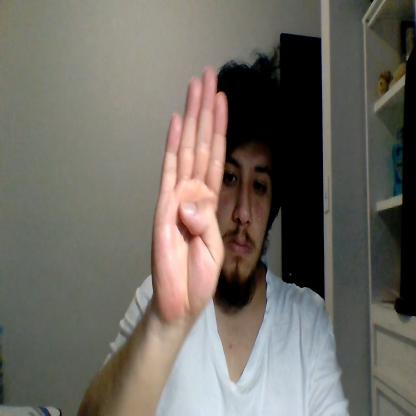B: (151, 66, 227, 319)
